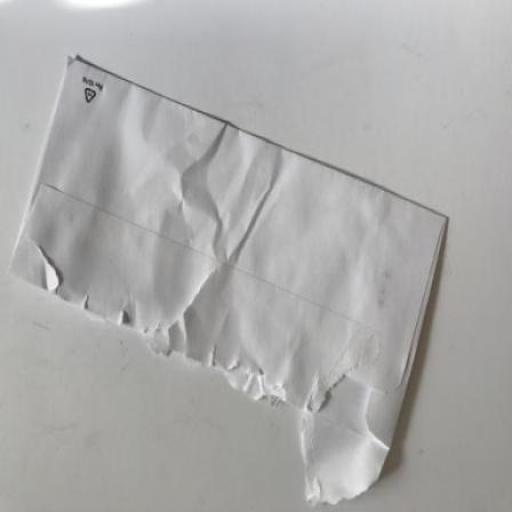paper: (11, 1, 512, 504)
